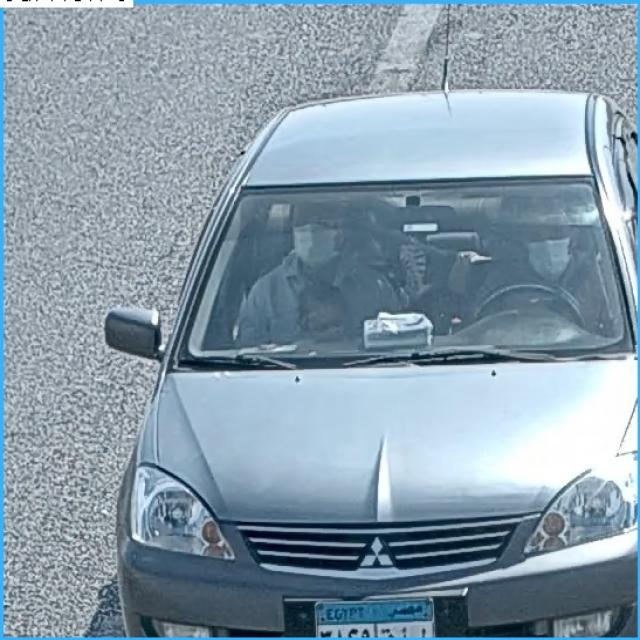windshield: (180, 191, 626, 355)
